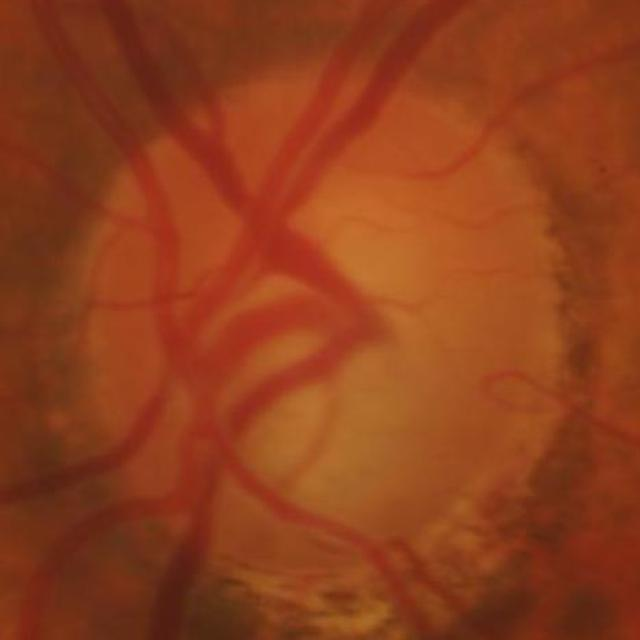OC: (206, 195, 449, 507)
OD: (77, 80, 571, 575)
